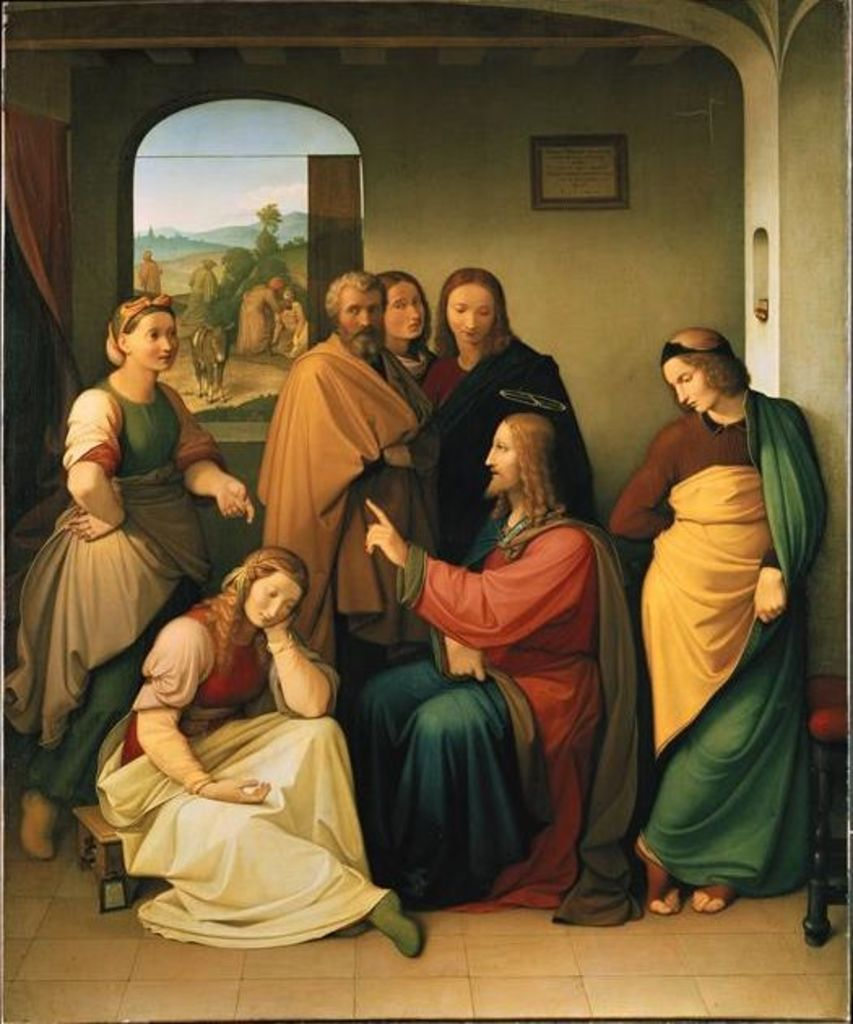Person: (4, 249, 826, 956)
